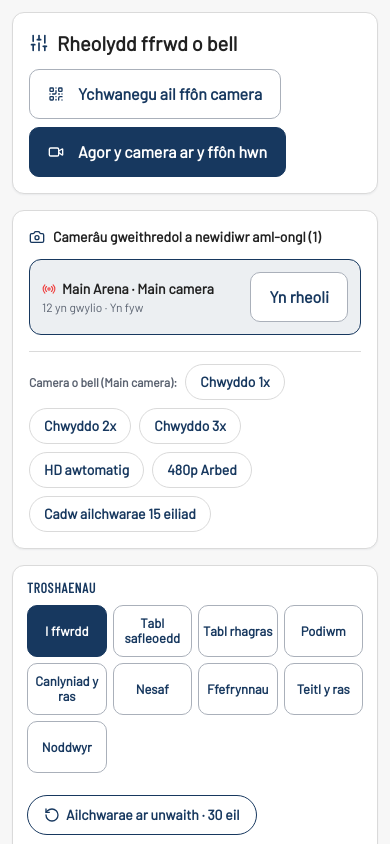
stream desks in French and Welsh › shows the remote stream controller in Welsh
This screenshot has width=390, height=844.
Expected: the heading "Rheolydd ffrwd o bell" is shown, [57,29,237,57]
Click the button "Chwyddo 2x". click: coordinates (80, 426)
box: [29,408,131,444]
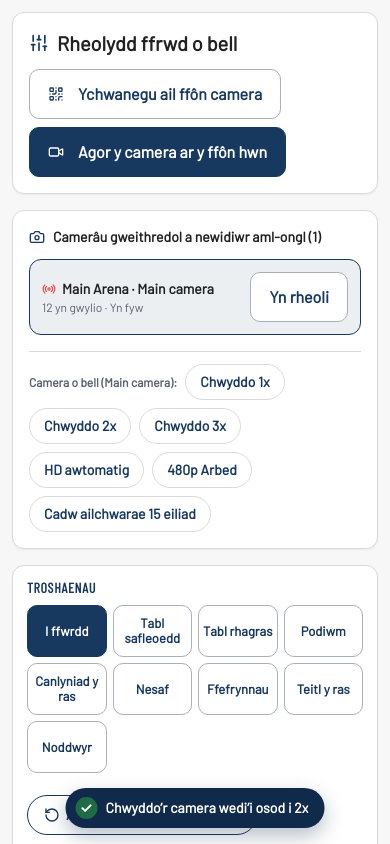
Result: the text "Chwyddo’r camera wedi’i osod i 2x" is shown at [106,800,308,816]
